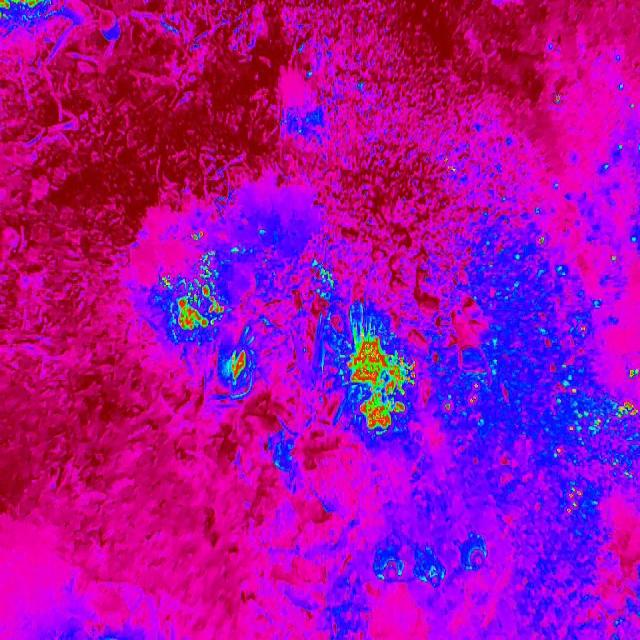fire: (545, 315, 640, 524), (346, 334, 416, 431), (154, 263, 228, 335), (438, 379, 483, 416), (228, 347, 252, 385), (0, 0, 52, 12), (535, 233, 550, 251), (190, 232, 206, 242)
